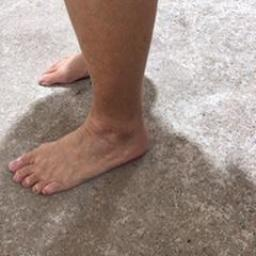Lateral View -Left Foot-: (5, 99, 158, 202)
